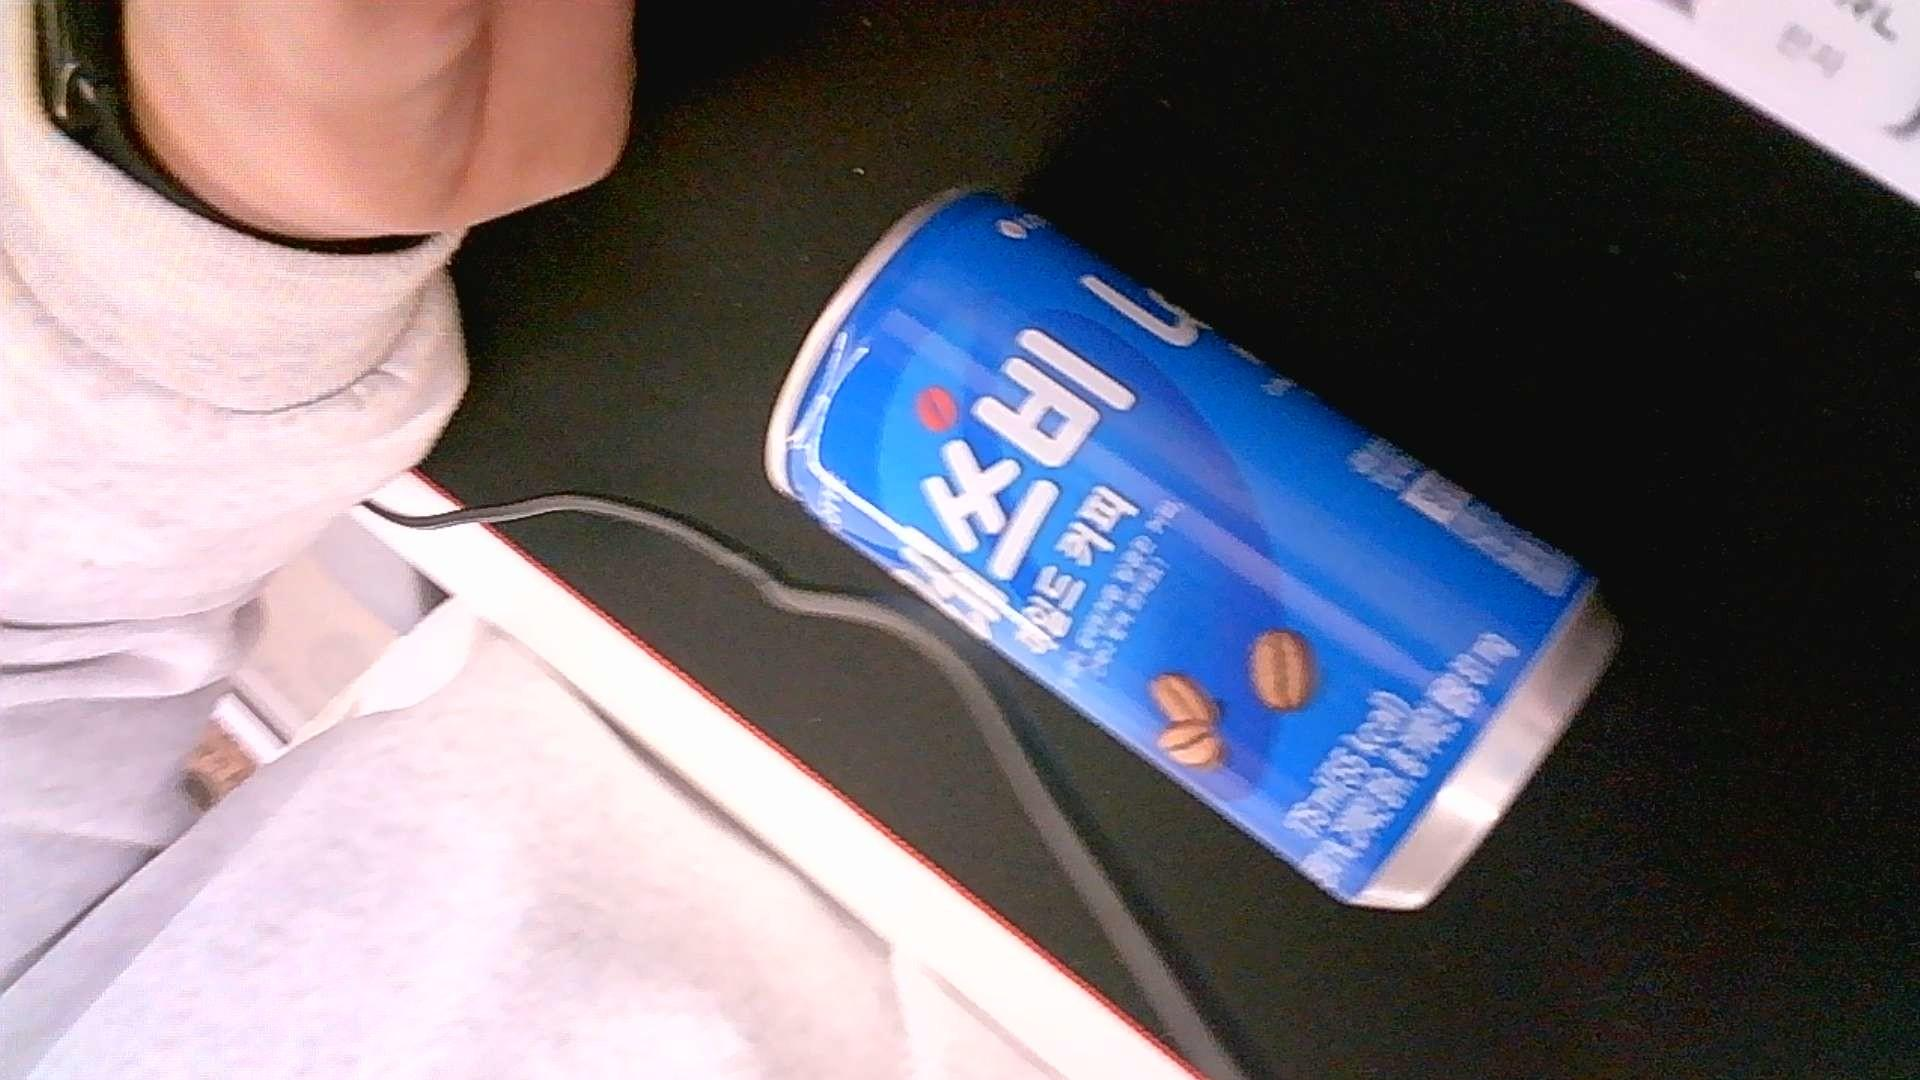letsbe: (761, 181, 1625, 913)
